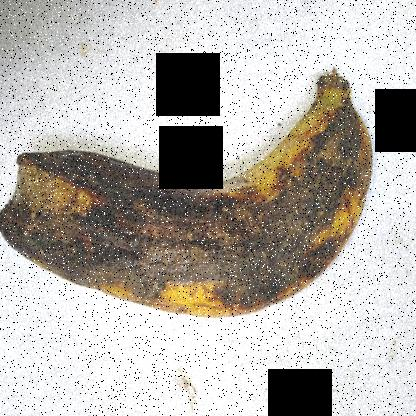rotten: (5, 94, 390, 342)
